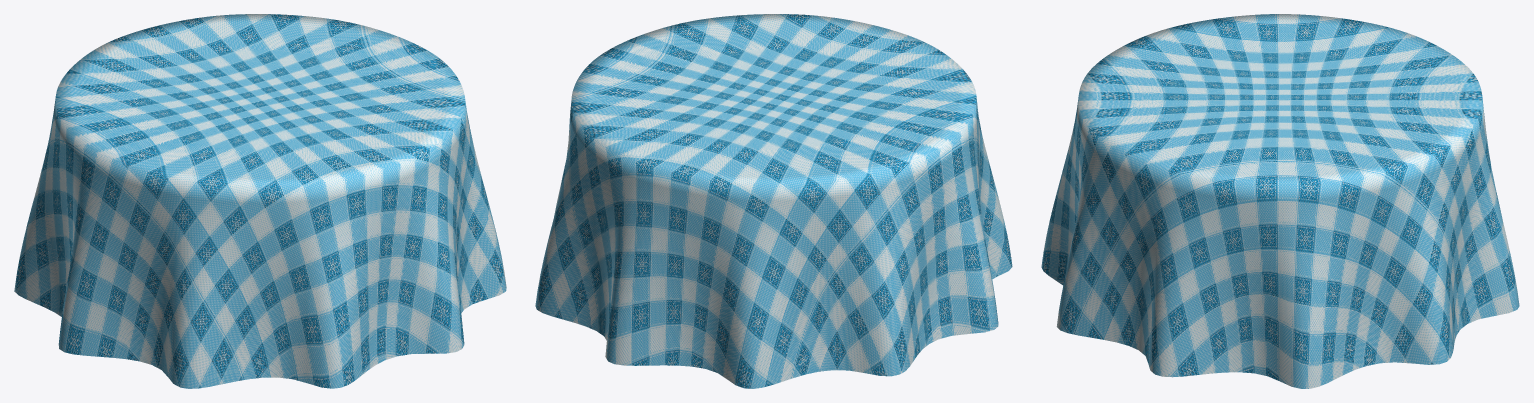
The model's file is Table06.FBX.
The picture shows the model from 3 angles, left to right: view 1: azimuth 30°, elevation 25°; view 2: azimuth 150°, elevation 25°; view 3: azimuth 270°, elevation 25°; orthographic projection.
Parts seen in each view (by area): view 1: Table06; view 2: Table06; view 3: Table06.
Part boxes in pixels (left/top/right/bottom): Table06: left=14, top=14, right=506, bottom=388; Table06: left=535, top=14, right=1012, bottom=388; Table06: left=1041, top=14, right=1519, bottom=388.
Bounding box in the file's own units: 2289 × 1027 × 2261.
